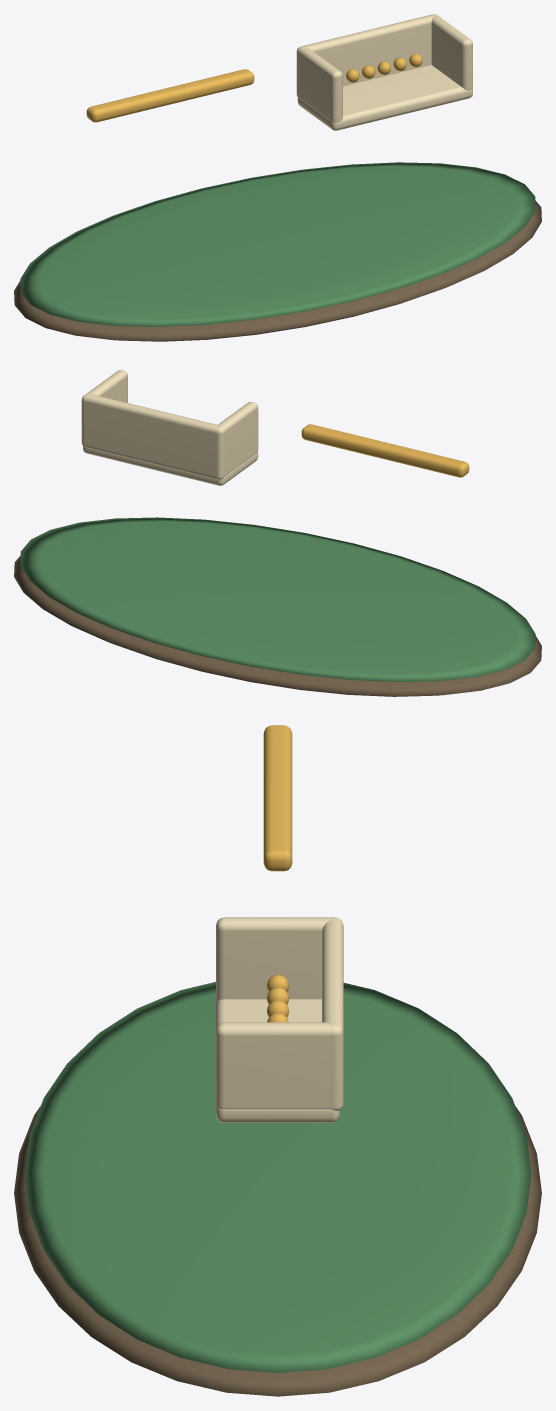
The model's file is complete-first-ordinary-sorted-items.glb.
The picture shows the model from 3 angles, top to bottom: view 1: azimuth 30°, elevation 25°; view 2: azimuth 150°, elevation 25°; view 3: azimuth 270°, elevation 25°; orthographic projection. The views are drawn at different scales.
Visible parts, largest first — view 1: complete-first-ordinary-sorted-items_surface_01, complete-first-ordinary-sorted-items_surface_03, complete-first-ordinary-sorted-items_surface_00, complete-first-ordinary-sorted-items_surface_02; view 2: complete-first-ordinary-sorted-items_surface_01, complete-first-ordinary-sorted-items_surface_03, complete-first-ordinary-sorted-items_surface_00, complete-first-ordinary-sorted-items_surface_02; view 3: complete-first-ordinary-sorted-items_surface_01, complete-first-ordinary-sorted-items_surface_03, complete-first-ordinary-sorted-items_surface_00, complete-first-ordinary-sorted-items_surface_02.
Boxes of the visible parts, x1,y1,x2,y2 form: complete-first-ordinary-sorted-items_surface_01: (20,162,535,326); complete-first-ordinary-sorted-items_surface_03: (296,14,472,130); complete-first-ordinary-sorted-items_surface_00: (14,200,541,341); complete-first-ordinary-sorted-items_surface_02: (86,53,422,122); complete-first-ordinary-sorted-items_surface_01: (20,517,535,682); complete-first-ordinary-sorted-items_surface_03: (81,370,258,485); complete-first-ordinary-sorted-items_surface_00: (14,555,541,696); complete-first-ordinary-sorted-items_surface_02: (301,424,469,477); complete-first-ordinary-sorted-items_surface_01: (24,982,531,1372); complete-first-ordinary-sorted-items_surface_03: (216,917,343,1122); complete-first-ordinary-sorted-items_surface_00: (14,1106,541,1396); complete-first-ordinary-sorted-items_surface_02: (263,725,292,1022).
Bounding box in the file's own units: 4.56 × 1.79 × 2.5.
